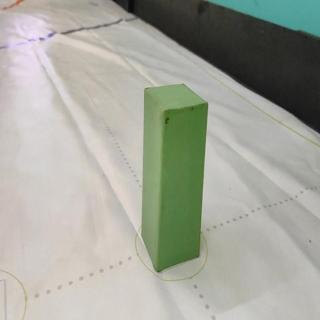greenbox: (141, 81, 210, 275)
